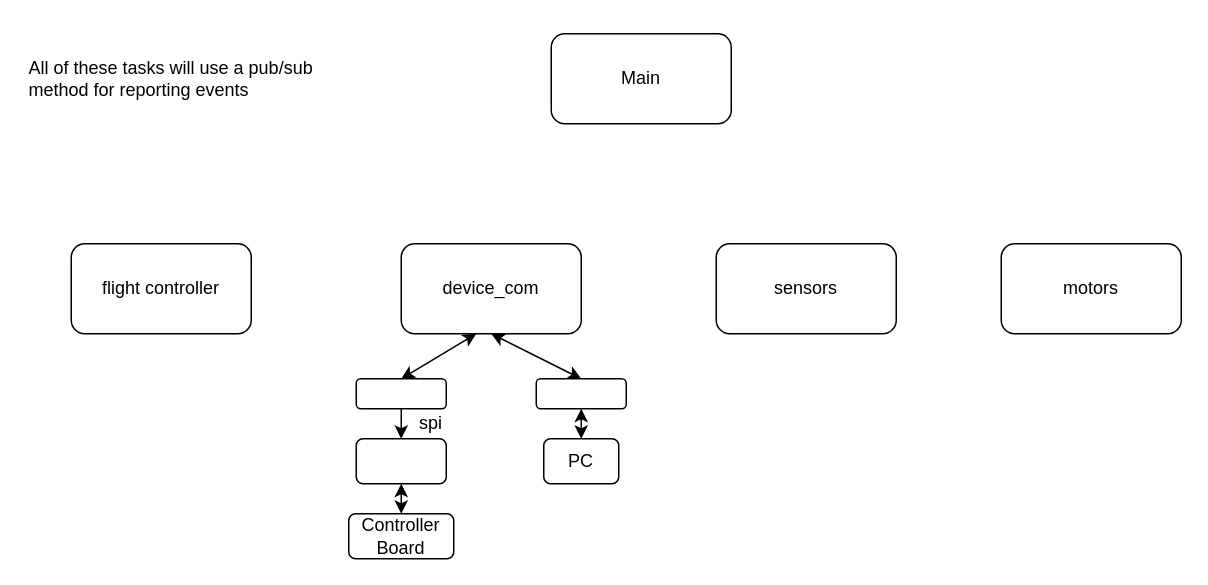
Image size: 1208x585. Some labels were removed from this diagram. Each missing label, with the box of its shape:
nrf24l01: (355, 437, 446, 484)
rf: (355, 377, 446, 409)
uart: (535, 377, 626, 409)
